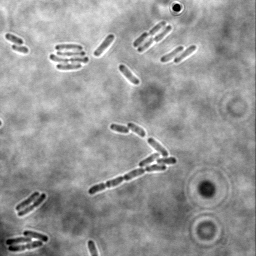microcolony: (87, 121, 176, 196), (131, 19, 173, 54), (48, 41, 90, 70), (5, 228, 49, 254), (14, 189, 48, 220)
rod: (92, 32, 116, 58), (116, 61, 140, 86), (158, 42, 184, 64), (172, 43, 197, 63), (3, 31, 25, 46), (10, 42, 31, 55)
